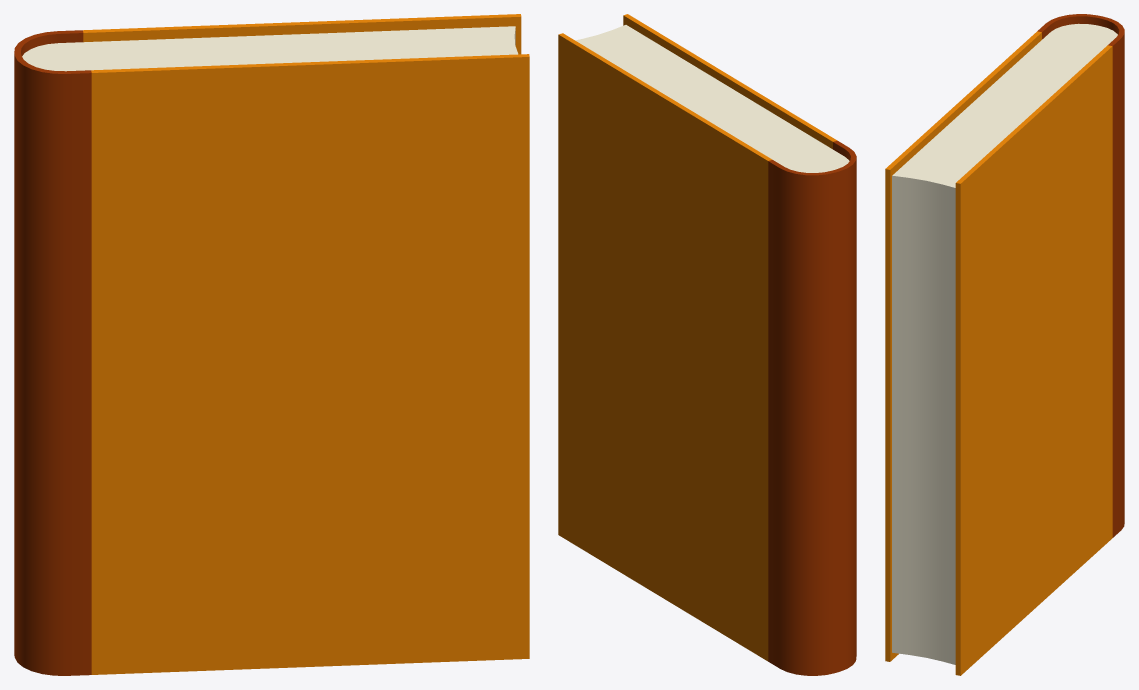
The model's file is orange_book.glb.
The picture shows the model from 3 angles, left to right: view 1: azimuth 30°, elevation 25°; view 2: azimuth 150°, elevation 25°; view 3: azimuth 270°, elevation 25°; orthographic projection. The views are drawn at different scales.
Parts seen in each view (by area): view 1: Cube.949; view 2: Cube.949; view 3: Cube.949.
Part boxes in pixels (x1,y1,x2,y2): Cube.949: (14,14,529,675); Cube.949: (558,14,856,675); Cube.949: (885,14,1124,675).
Size of the model in its own units: 1.55 by 2.1 by 0.9263.
Materials: 1 (1 with a texture image).
